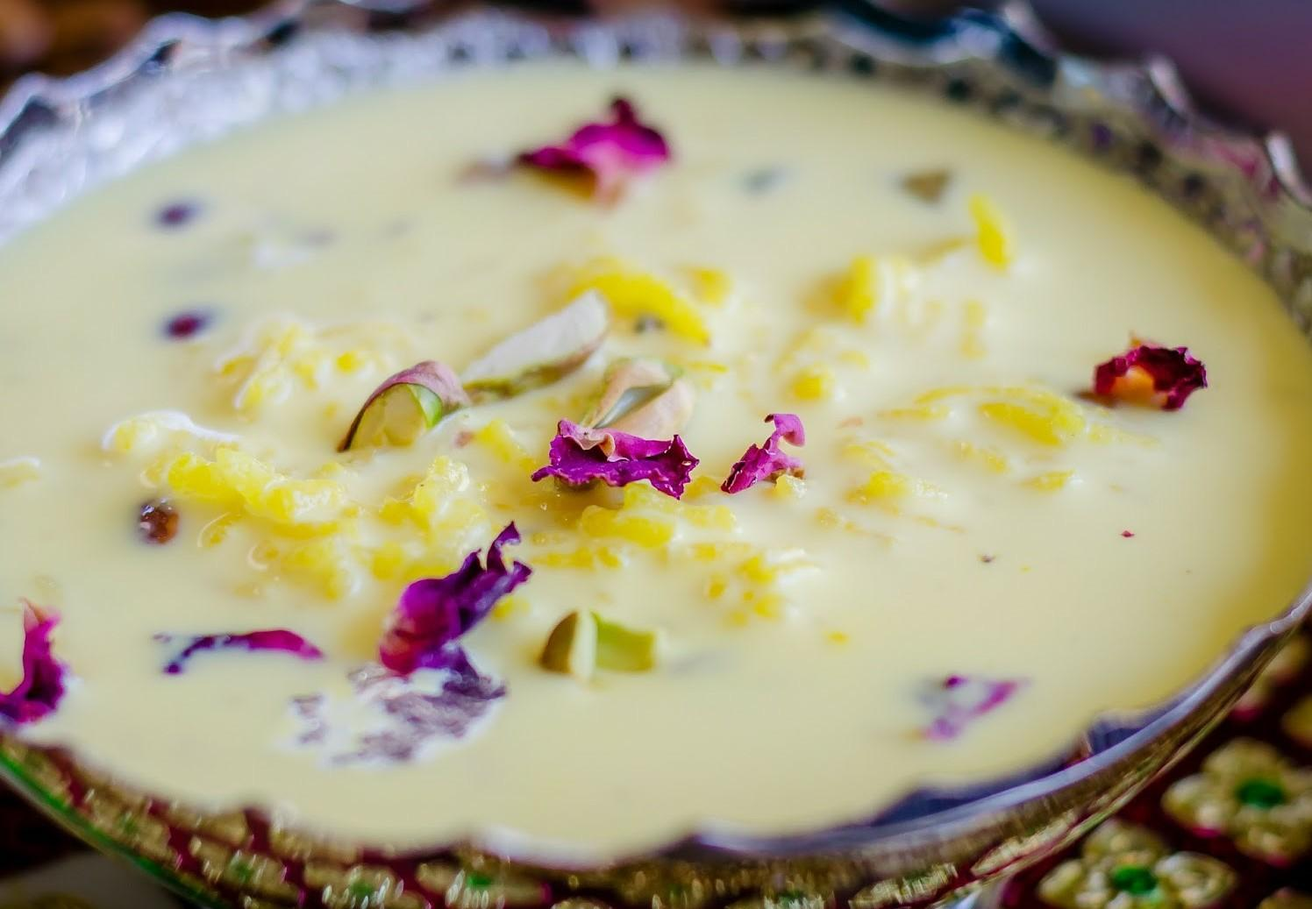Kheer: (0, 57, 1312, 865)
